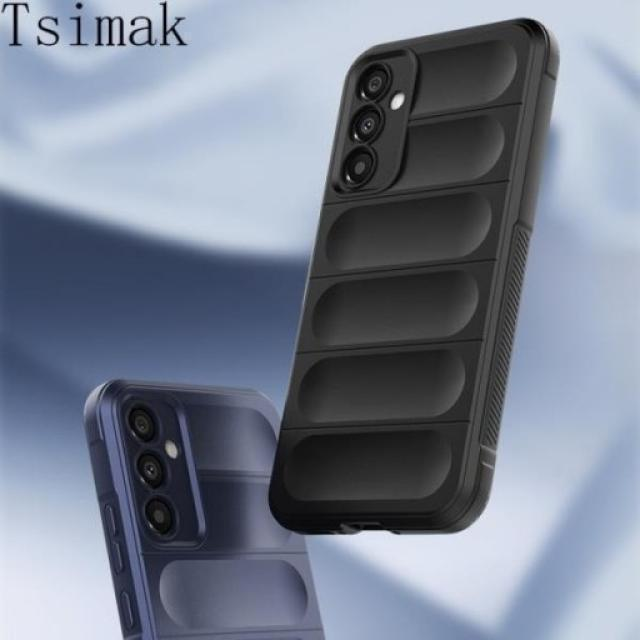Mobile: (269, 22, 560, 523), (80, 375, 324, 640)
